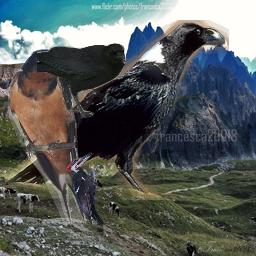Crow: (5, 20, 229, 200), (37, 43, 126, 118)
Swallow: (8, 48, 86, 223)
Woodpecker: (65, 152, 105, 229)
